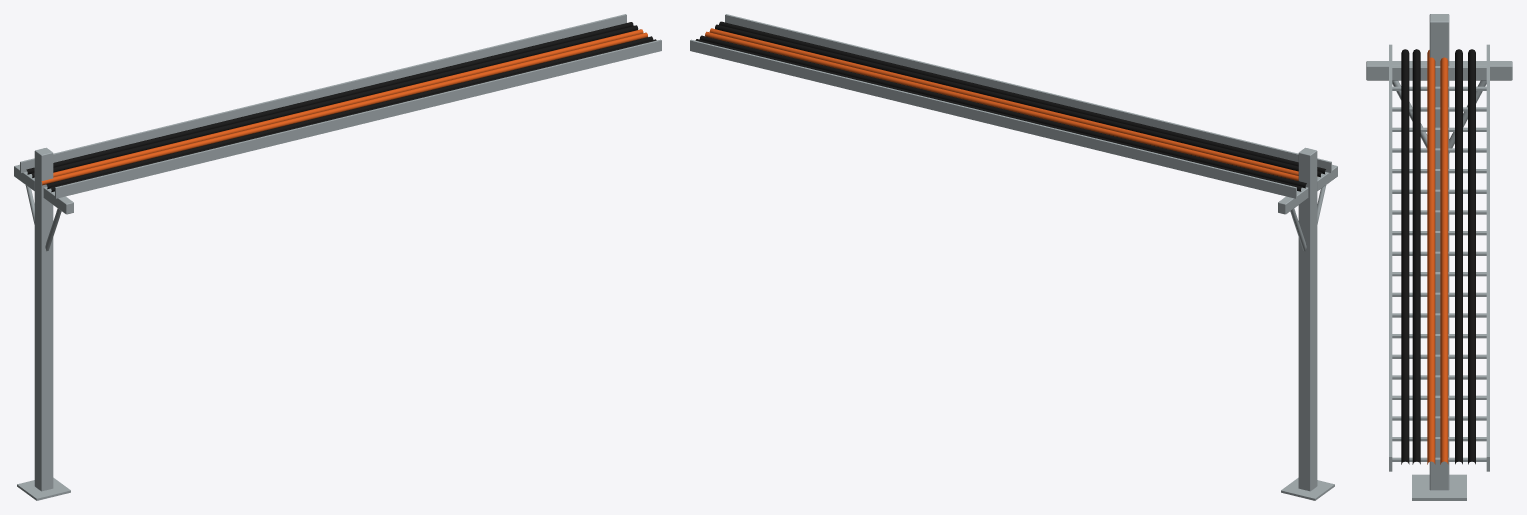
Rendered from cable-tray.glb.
The picture shows the model from 3 angles, left to right: view 1: azimuth 30°, elevation 25°; view 2: azimuth 150°, elevation 25°; view 3: azimuth 270°, elevation 25°; orthographic projection. The views are drawn at different scales.
Visible parts, largest first — view 1: 桥架; view 2: 桥架; view 3: 桥架.
Part boxes in pixels (x1=…): 桥架: x1=14, y1=14, x2=661, y2=500; 桥架: x1=690, y1=14, x2=1337, y2=500; 桥架: x1=1366, y1=14, x2=1512, y2=500.
Size of the model in its own units: 6.11 by 3.2 by 0.9003.
